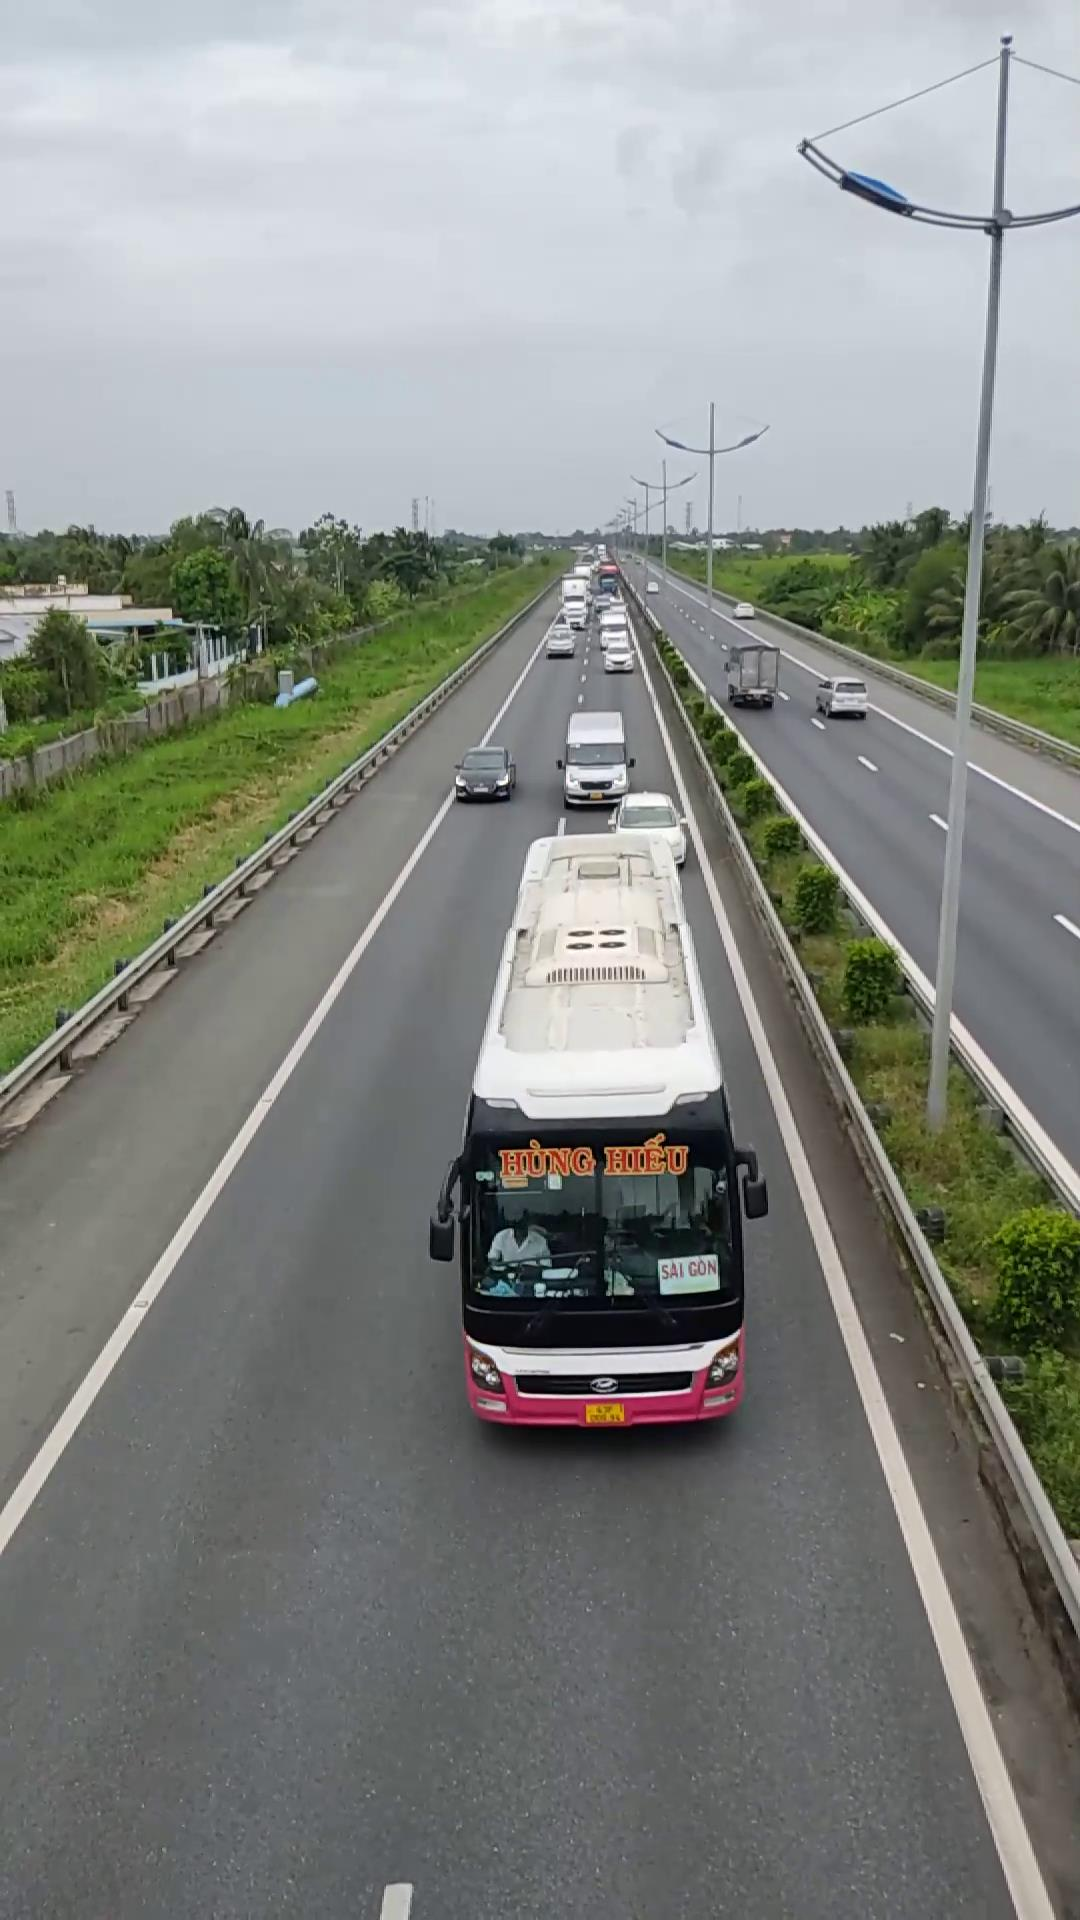bus: (436, 824, 764, 1437)
